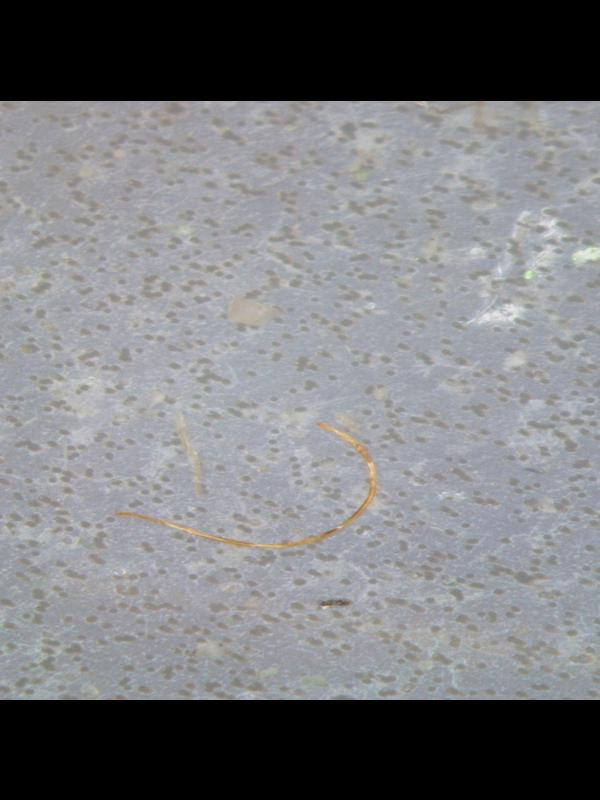microplastic: (0, 101, 600, 699), (112, 414, 379, 548)
